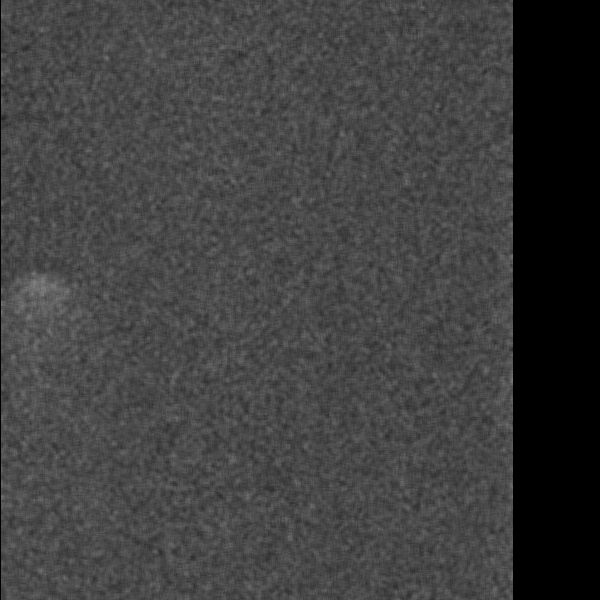spark: (13, 269, 66, 306)
